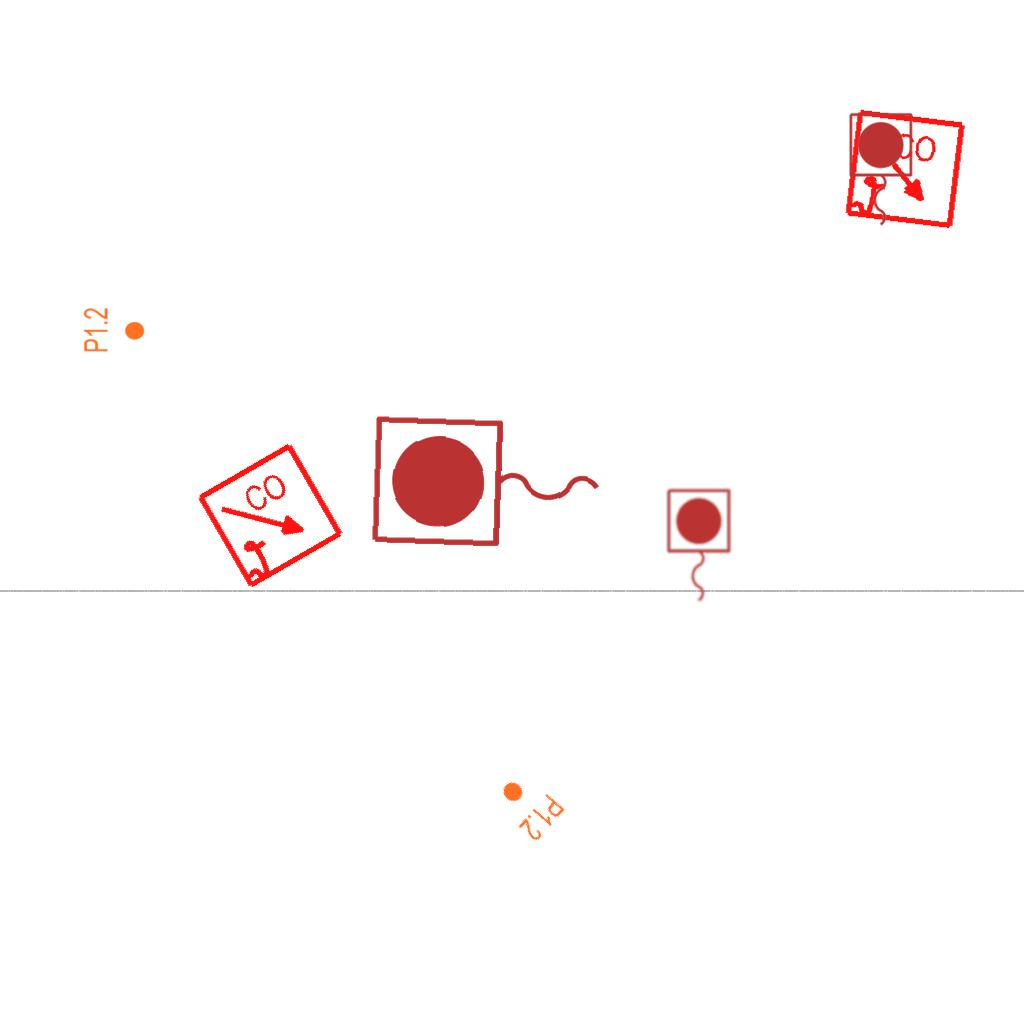Downlight_LED_Einbauleuchten_Flur: (488, 767, 568, 845), (82, 307, 146, 353)
ROA_Rauchmelder_optisch_mit_Signalgeber_(Sockelsirene): (194, 439, 349, 594), (842, 107, 969, 234)
Zugtaster: (363, 408, 613, 562), (662, 485, 734, 607), (844, 109, 916, 231)
